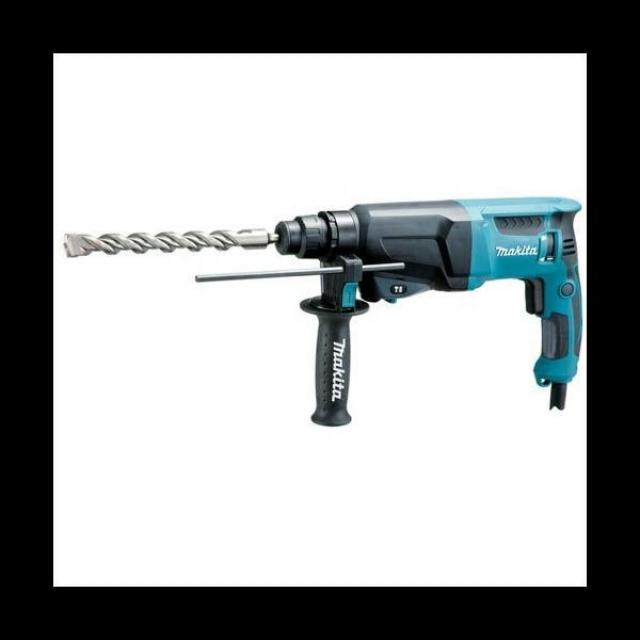drill: (62, 196, 585, 428)
